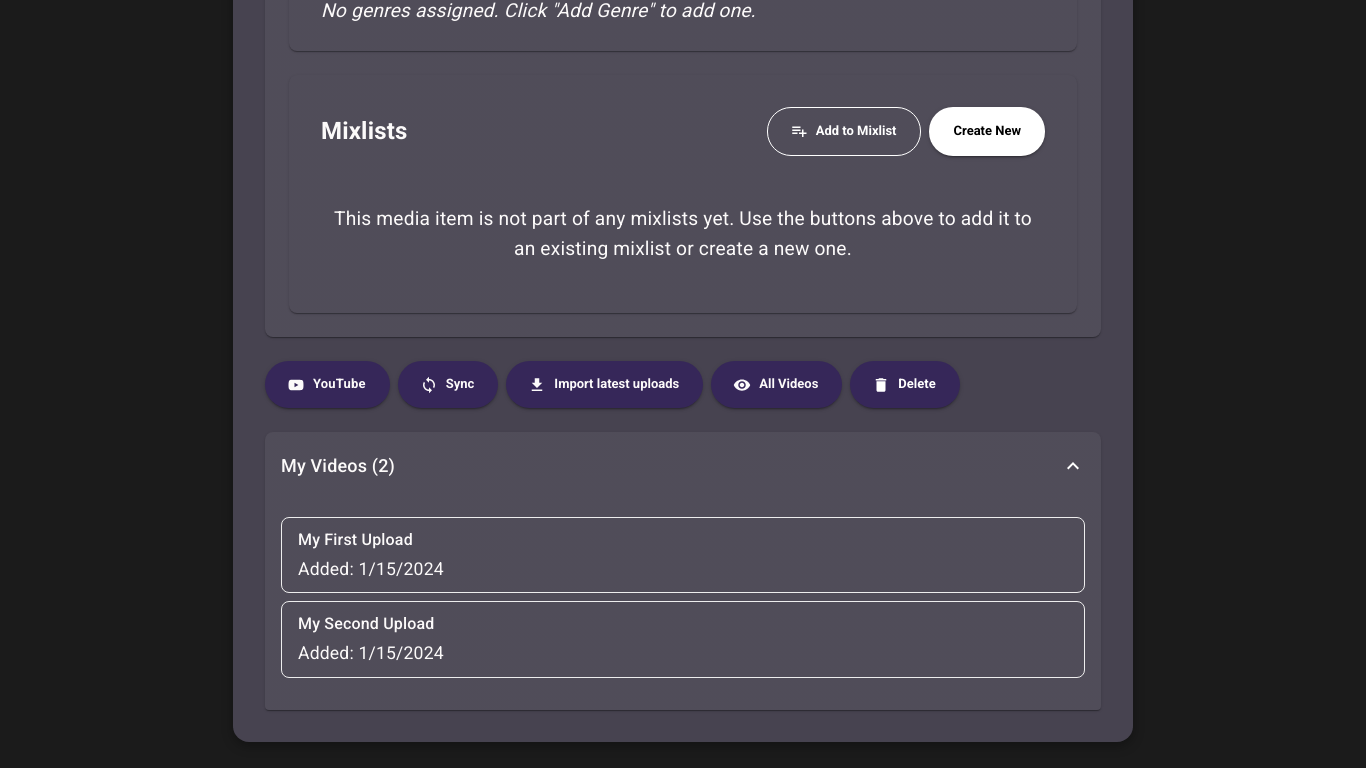
Test: YouTubeChannelProfile › opens the delete confirmation dialog and cancels it
This screenshot has width=1366, height=768.
(page scrolled)
Step 1. Click the button "Delete" → coordinates (905, 385), box [850, 361, 960, 408]
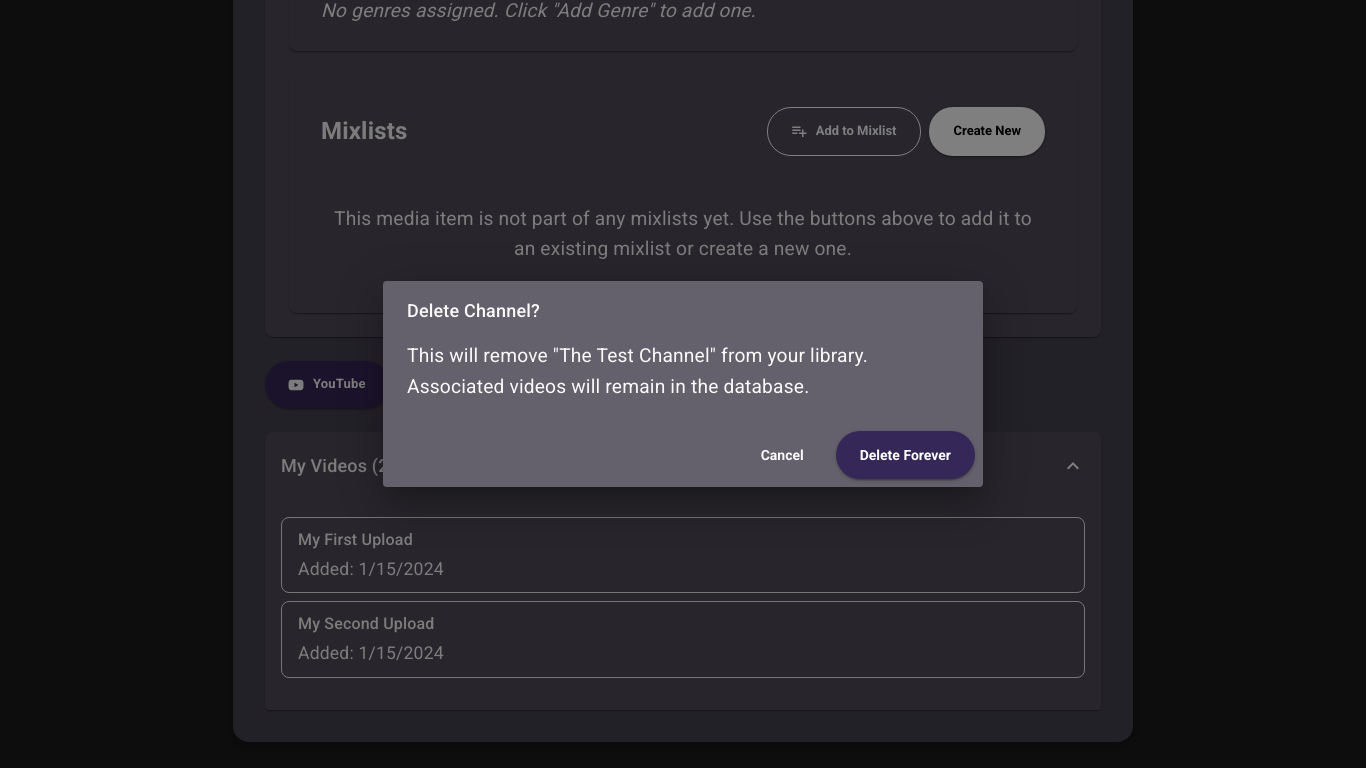
expect the heading "Delete Channel?" is shown: met, box [407, 300, 540, 321]
expect the text "This will remove \"The Test Channel\"" is shown: met, box [407, 344, 868, 398]
Step 2. Click the button "Cancel" → coordinates (782, 455), box [737, 431, 828, 479]
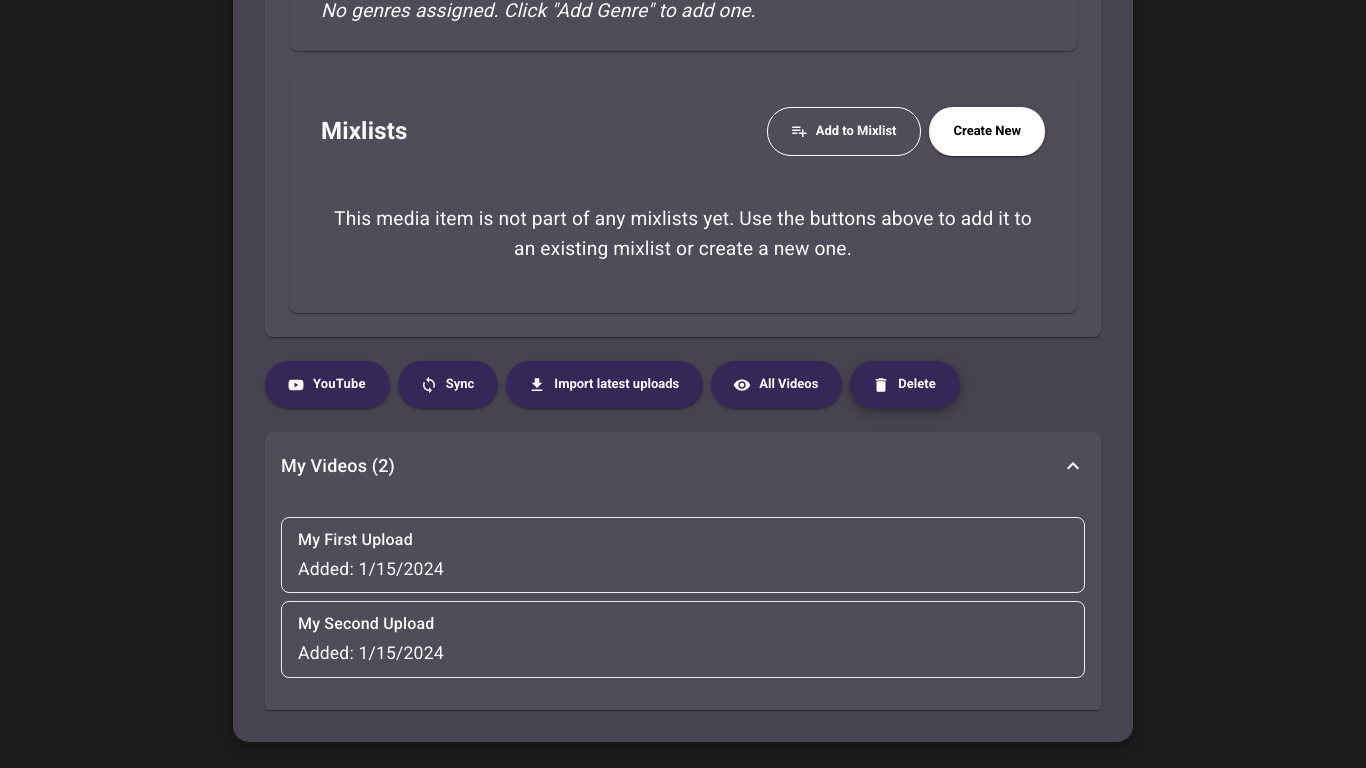
expect the dialog is gone: met
